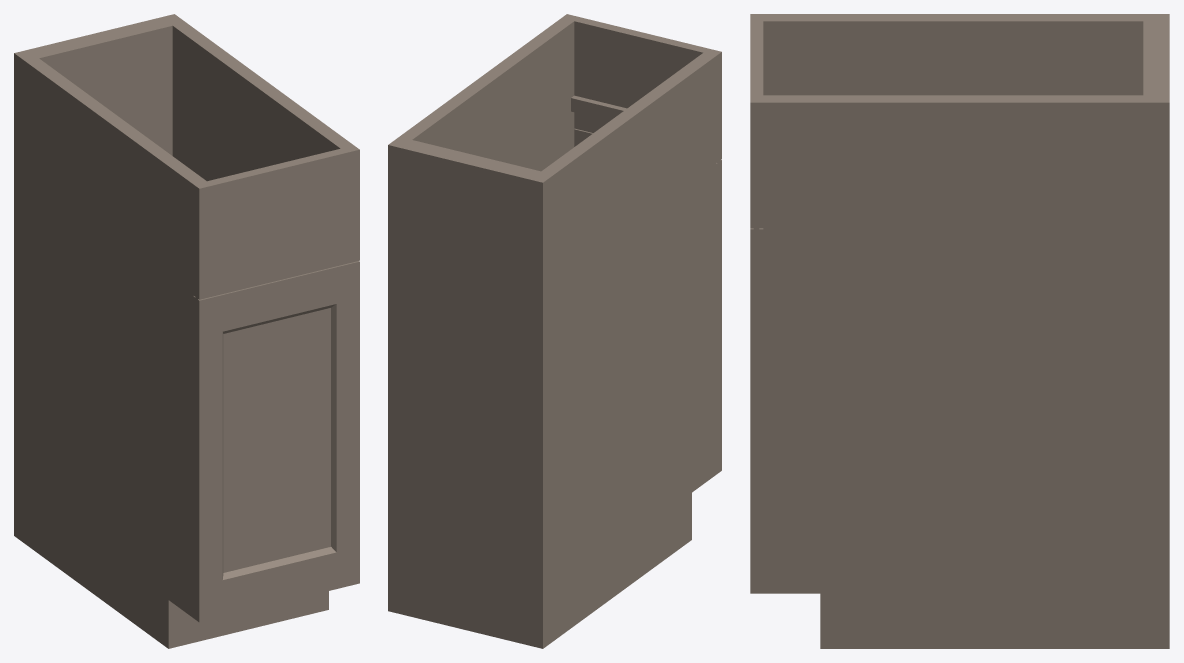
The model's file is Base-Cabinet-Wastebasket-24-Deep_std_001_W12in_1D.glb.
3 renders of one model, left to right at view 1: azimuth 30°, elevation 25°; view 2: azimuth 150°, elevation 25°; view 3: azimuth 270°, elevation 25°, orthographic. The views are drawn at different scales.
Parts seen in each view (by area): view 1: Base-Cabinet-Wastebasket-24-Deep.std.001_W12in_1D; view 2: Base-Cabinet-Wastebasket-24-Deep.std.001_W12in_1D; view 3: Base-Cabinet-Wastebasket-24-Deep.std.001_W12in_1D.
Boxes of the visible parts, x1,y1,x2,y2 form: Base-Cabinet-Wastebasket-24-Deep.std.001_W12in_1D: (14,14,359,648); Base-Cabinet-Wastebasket-24-Deep.std.001_W12in_1D: (388,14,721,648); Base-Cabinet-Wastebasket-24-Deep.std.001_W12in_1D: (750,14,1169,648).
Size of the model in its own units: 0.3048 by 0.8763 by 0.6096.
